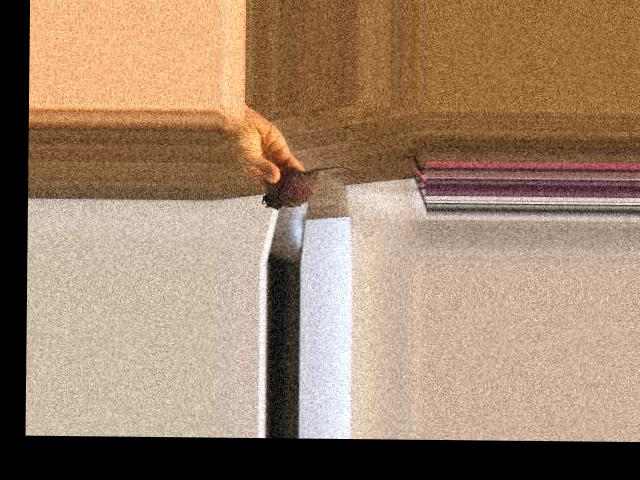beet: (262, 165, 356, 209)
